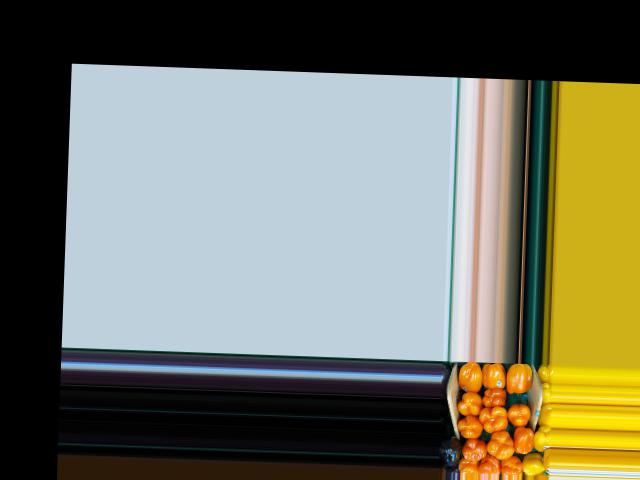bell_pepper: (534, 421, 549, 453)
